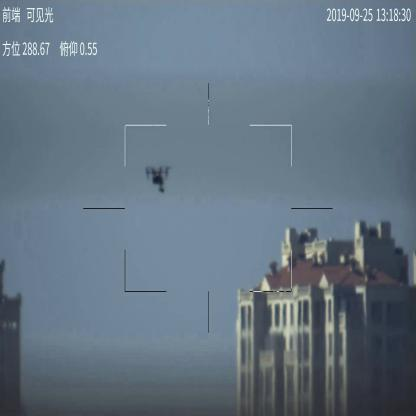uav: (144, 166, 172, 194)
